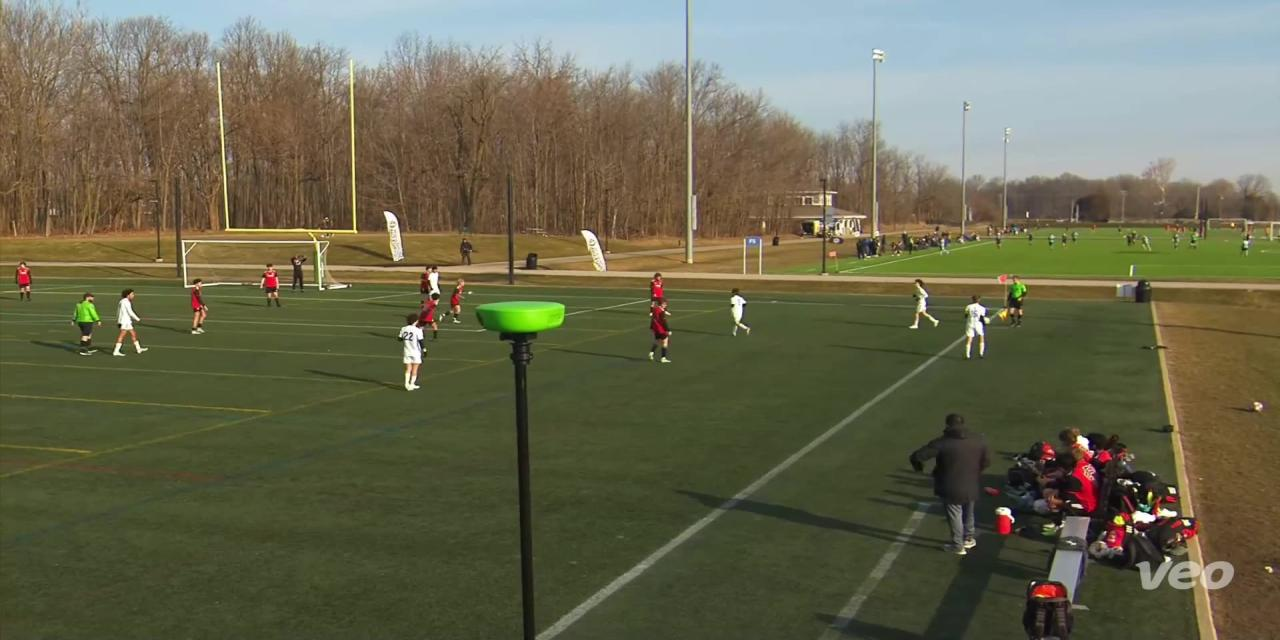goal: (170, 231, 361, 299)
